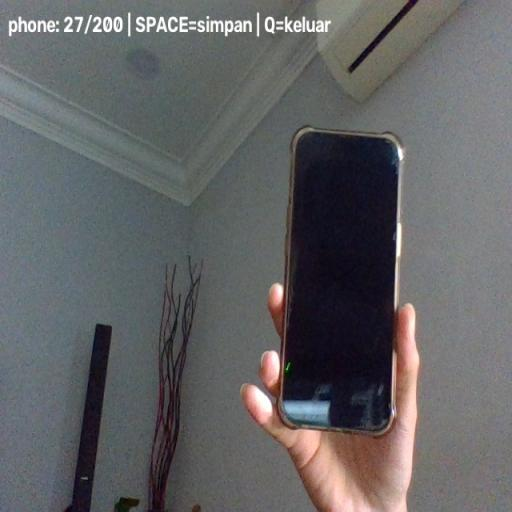Phone: (276, 125, 406, 438)
